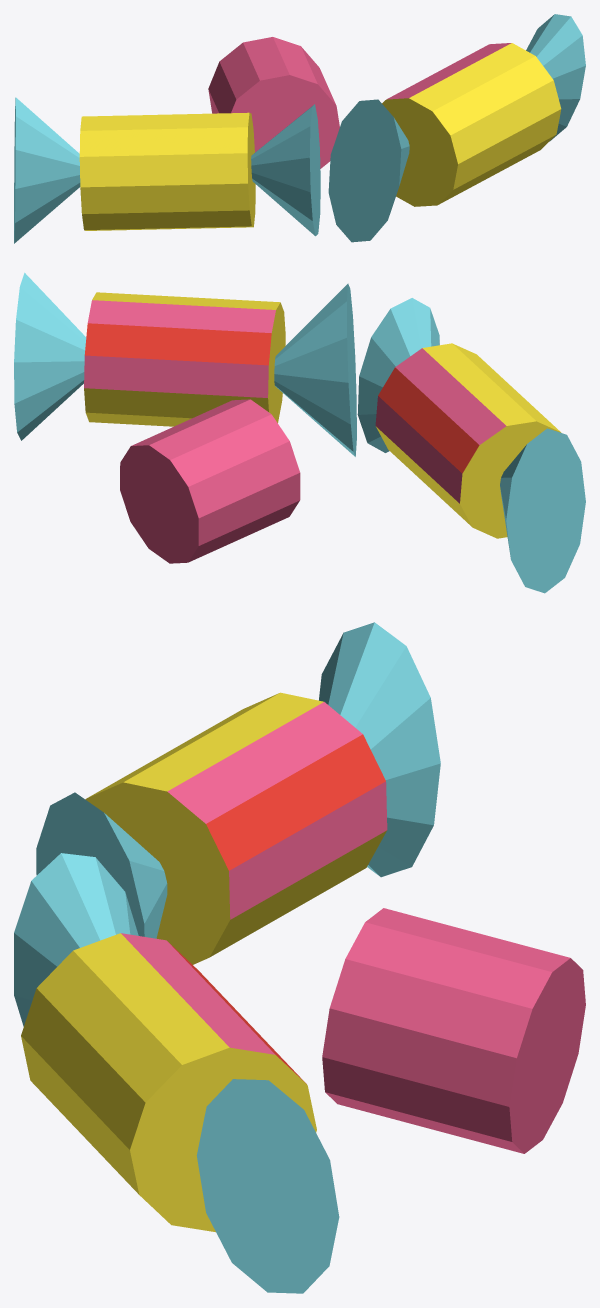
File: bubble gum.fbx
The picture shows the model from 3 angles, top to bottom: view 1: azimuth 30°, elevation 25°; view 2: azimuth 150°, elevation 25°; view 3: azimuth 270°, elevation 25°; orthographic projection. The views are drawn at different scales.
Parts seen in each view (by area): view 1: group_1366412244, group_1940540970, mesh_607043271; view 2: group_1940540970, group_1366412244, mesh_607043271; view 3: group_1940540970, group_1366412244, mesh_607043271.
Boxes of the visible parts, bbox=[...] form: group_1366412244: bbox=[14, 97, 320, 243]; group_1940540970: bbox=[328, 14, 585, 242]; mesh_607043271: bbox=[208, 37, 339, 168]; group_1940540970: bbox=[14, 272, 356, 456]; group_1366412244: bbox=[357, 298, 585, 593]; mesh_607043271: bbox=[120, 399, 300, 563]; group_1940540970: bbox=[14, 853, 339, 1293]; group_1366412244: bbox=[36, 622, 440, 964]; mesh_607043271: bbox=[322, 908, 585, 1153].
Bounding box in the file's own units: 42.06 × 12.1 × 22.6.
